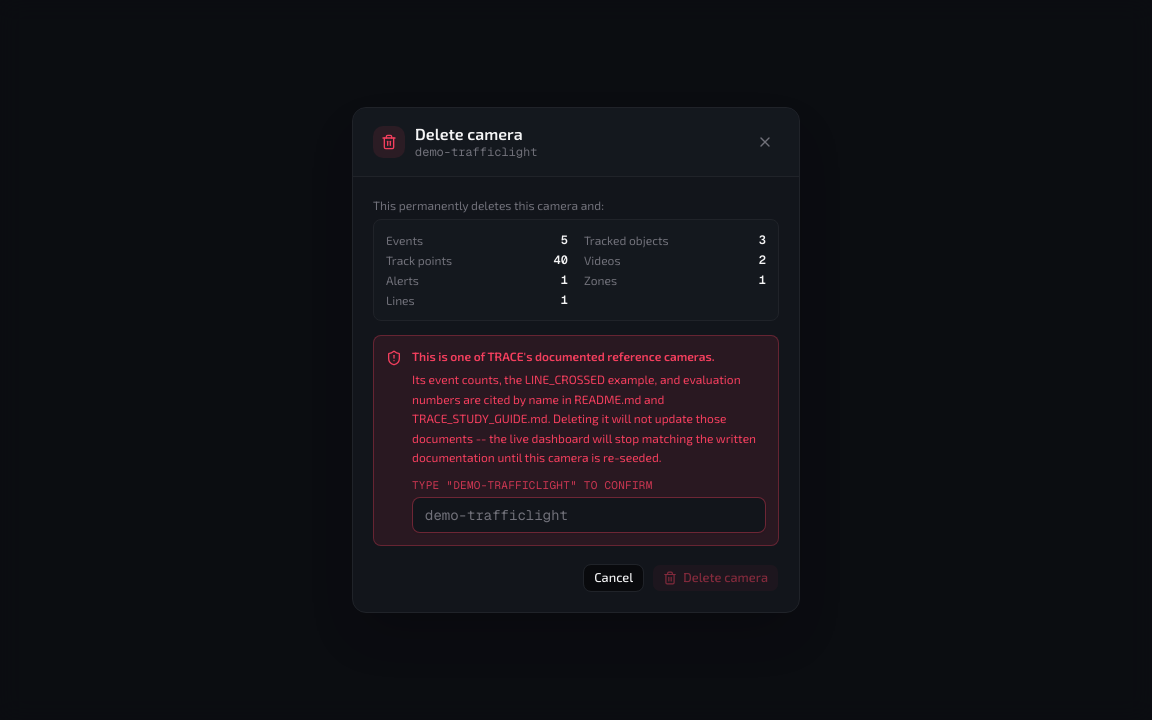
Test: DeleteCameraDialog › requires the exact typed name for "demo-trafficlight" too, not just any non-empty text
Expected: the text "This is one of TRACE's documented reference cameras." is shown, [412,348,766,364]
Type "demo-traffic" into the field labelled "Type \"demo-trafficlight\" to confirm".
click(589, 515); type("demo-traffic")  # box [412,497,766,533]
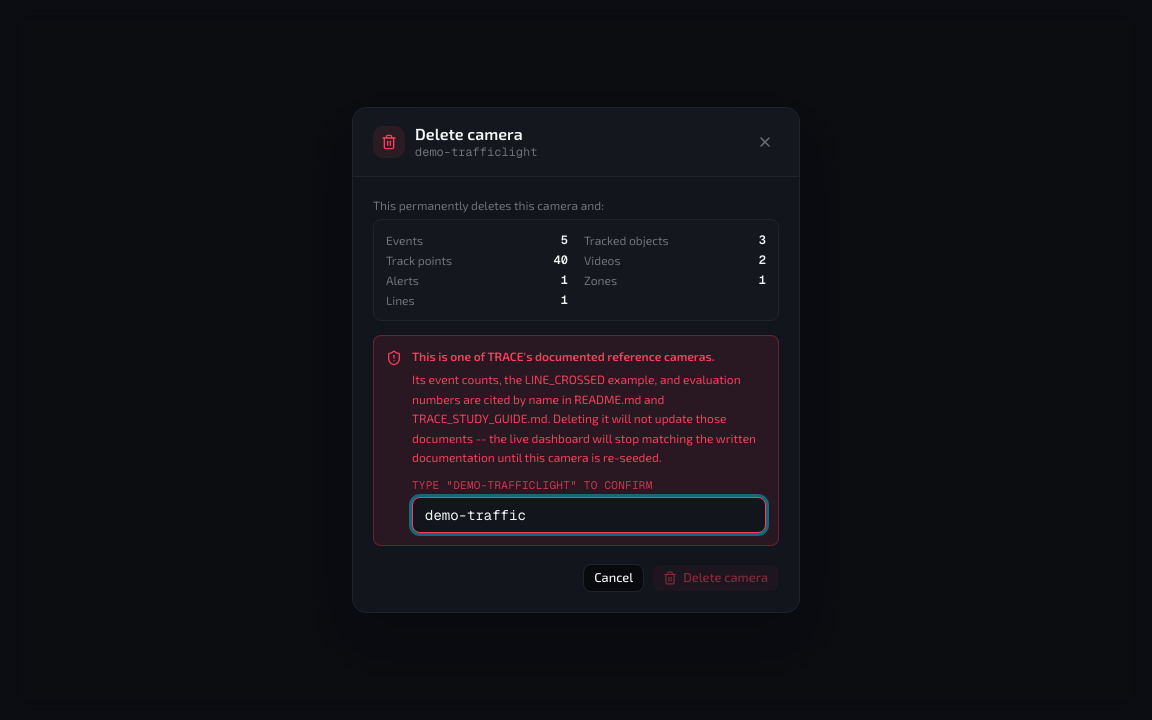
Expected: the button "Delete camera" is disabled, [652,564,779,592]
Type "light" into the field labelled "Type \"demo-trafficlight\" to confirm".
click(589, 515); type("light")  # box [412,497,766,533]
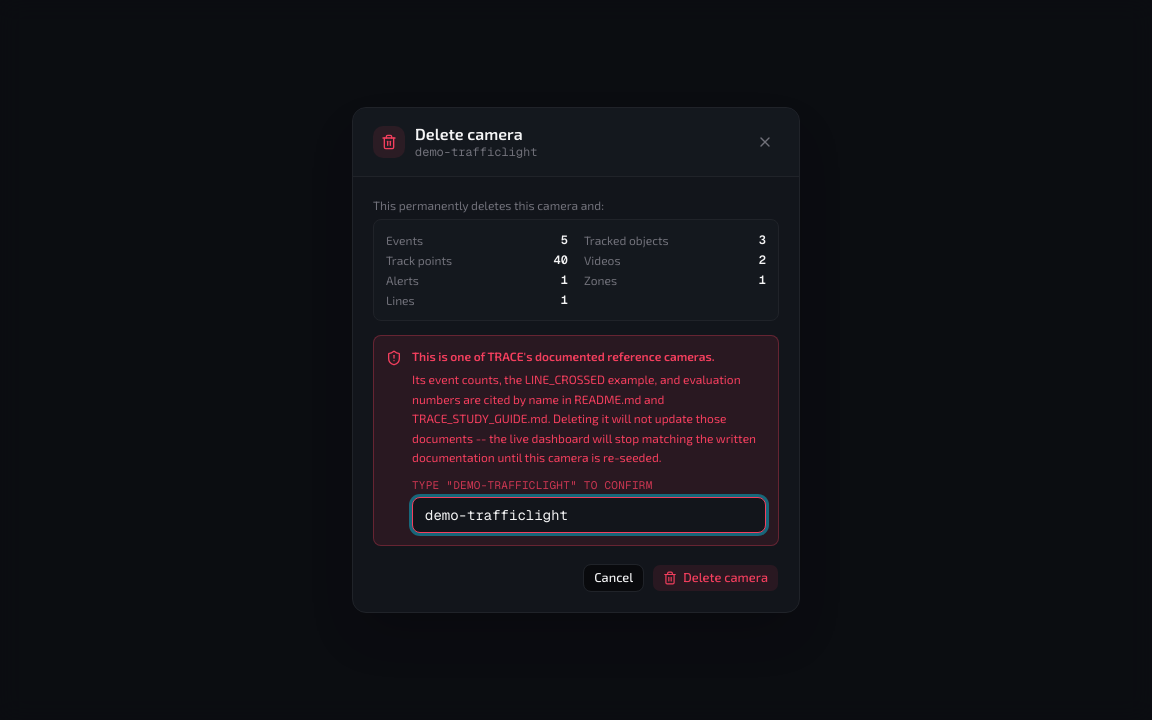
Now the button "Delete camera" is enabled, box [652,564,779,592]
